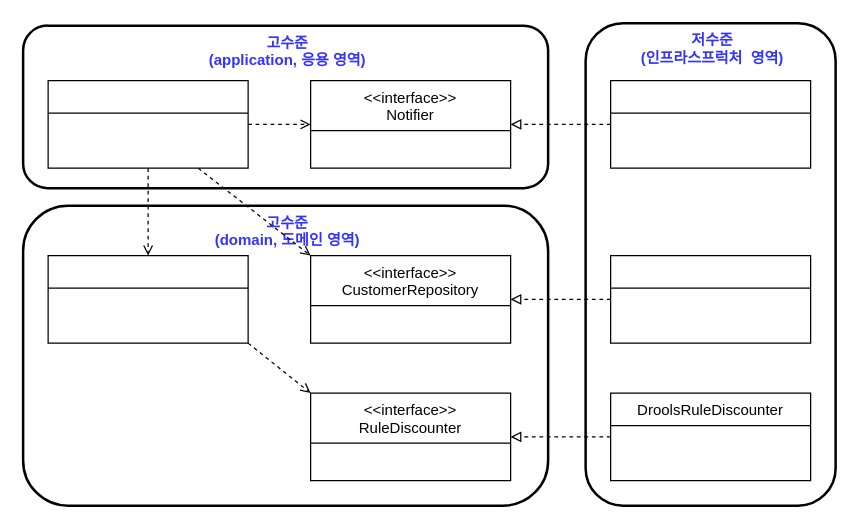
Image size: 858x528. Some labels were removed from this diagram. The shapes that lost their labels are listed below. From the top down, each one's centre as x and y in pixels, then its label:
At (147,123): "OrderService".
At (710,123): "EmailNotifier".
At (147,298): "CalculateDiscountService".
At (710,298): "MyBatisCustomerRepository".
